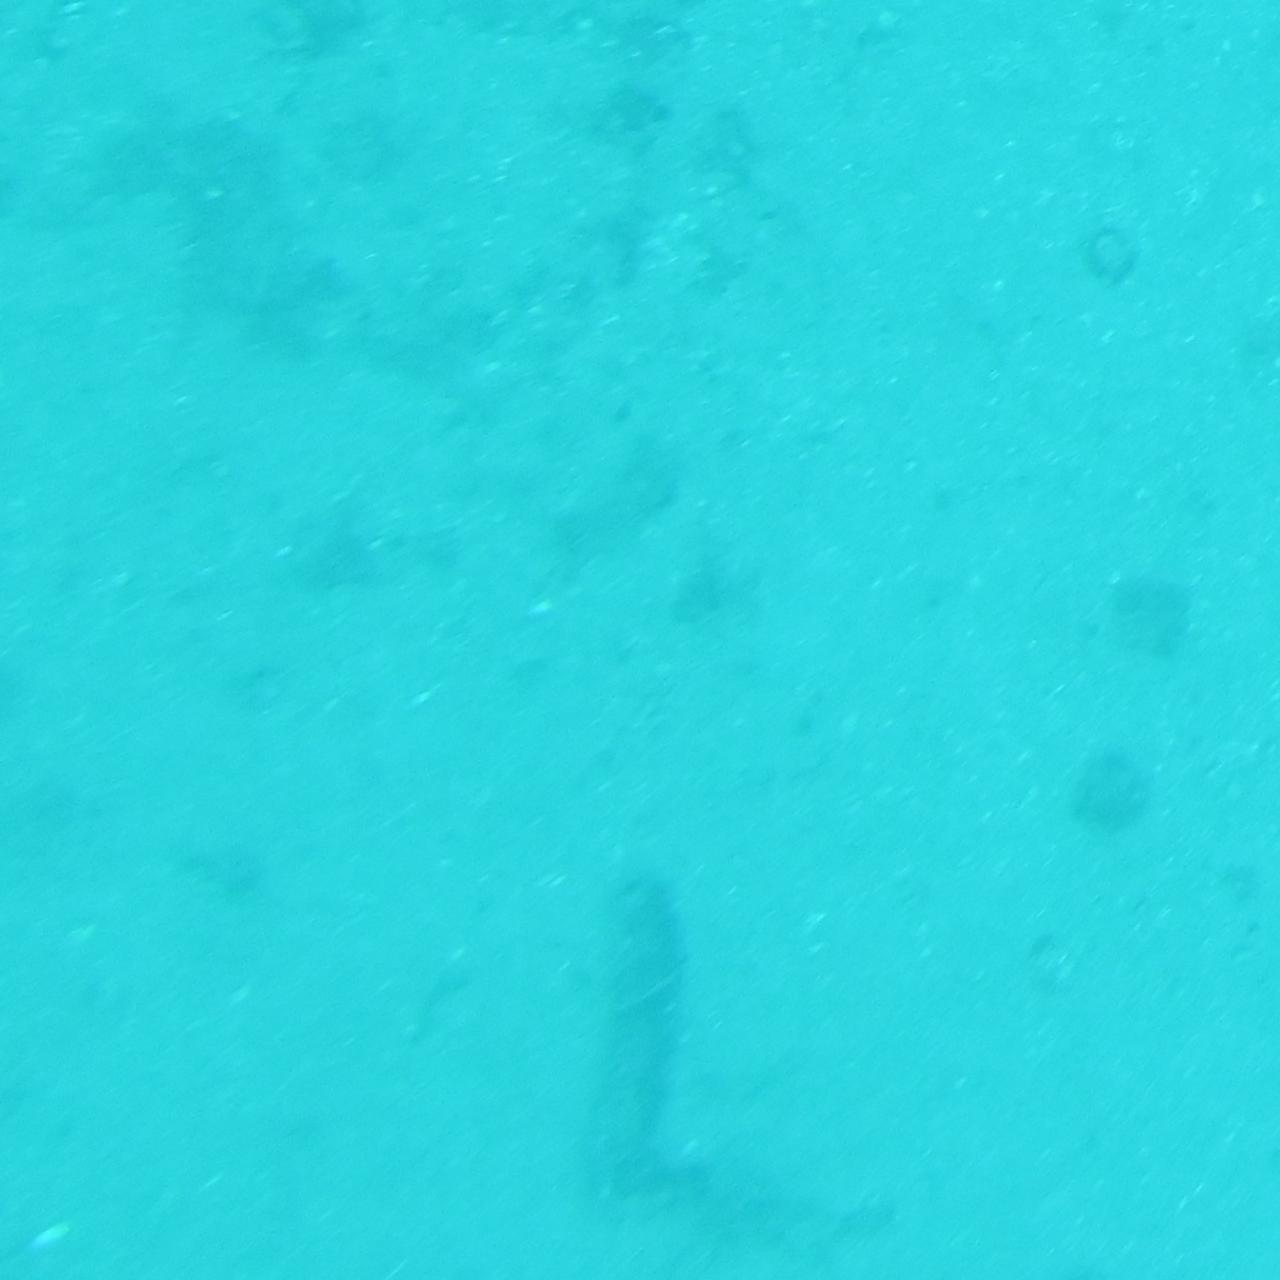Holothuria tubulosa: (590, 865, 690, 1229)
